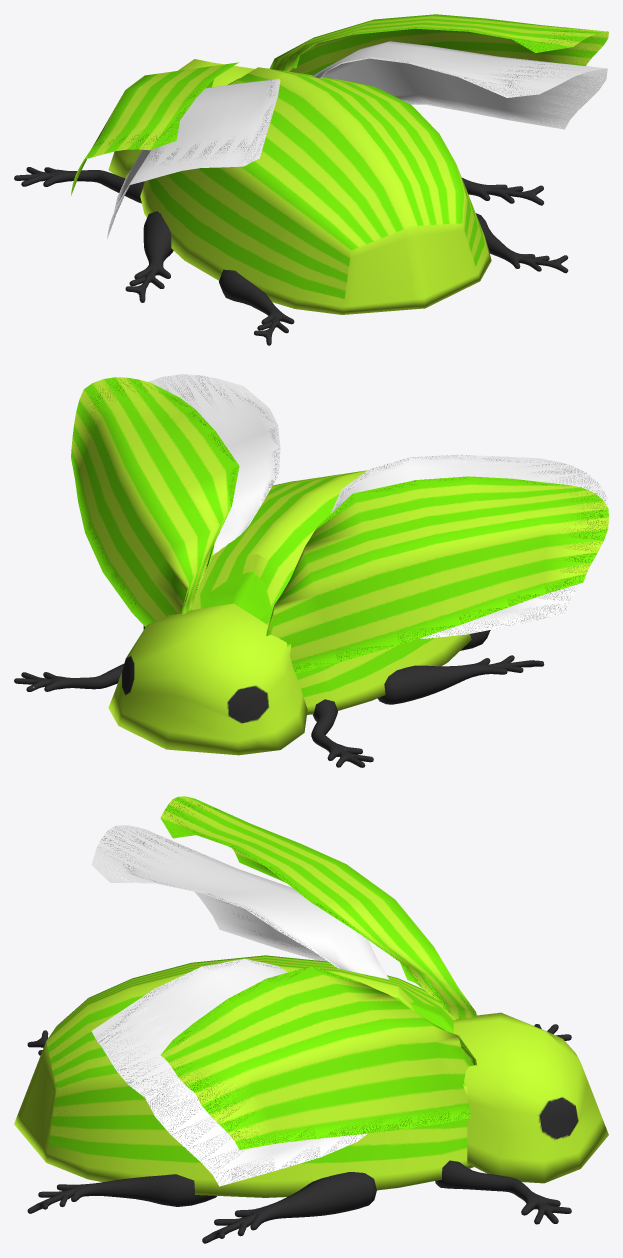
Rendered from Bug-together.glb.
3 views of the same model, one above another, from view 1: azimuth 30°, elevation 25°; view 2: azimuth 150°, elevation 25°; view 3: azimuth 270°, elevation 25° (orthographic). The views are drawn at different scales.
Visible parts, largest first — view 1: Bug; view 2: Bug; view 3: Bug.
Part boxes in pixels (x1=…): Bug: x1=14, y1=14, x2=608, y2=345; Bug: x1=14, y1=374, x2=608, y2=767; Bug: x1=14, y1=796, x2=608, y2=1243.
Bounding box in the file's own units: 0.6339 × 0.2194 × 0.5373.
Materials: 1 (1 with a texture image).
